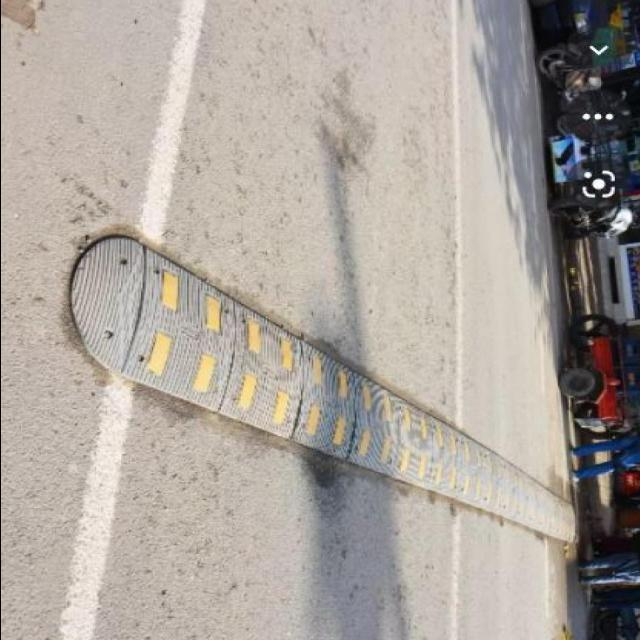Speed_Breaker: (69, 234, 586, 547), (66, 234, 580, 545)
